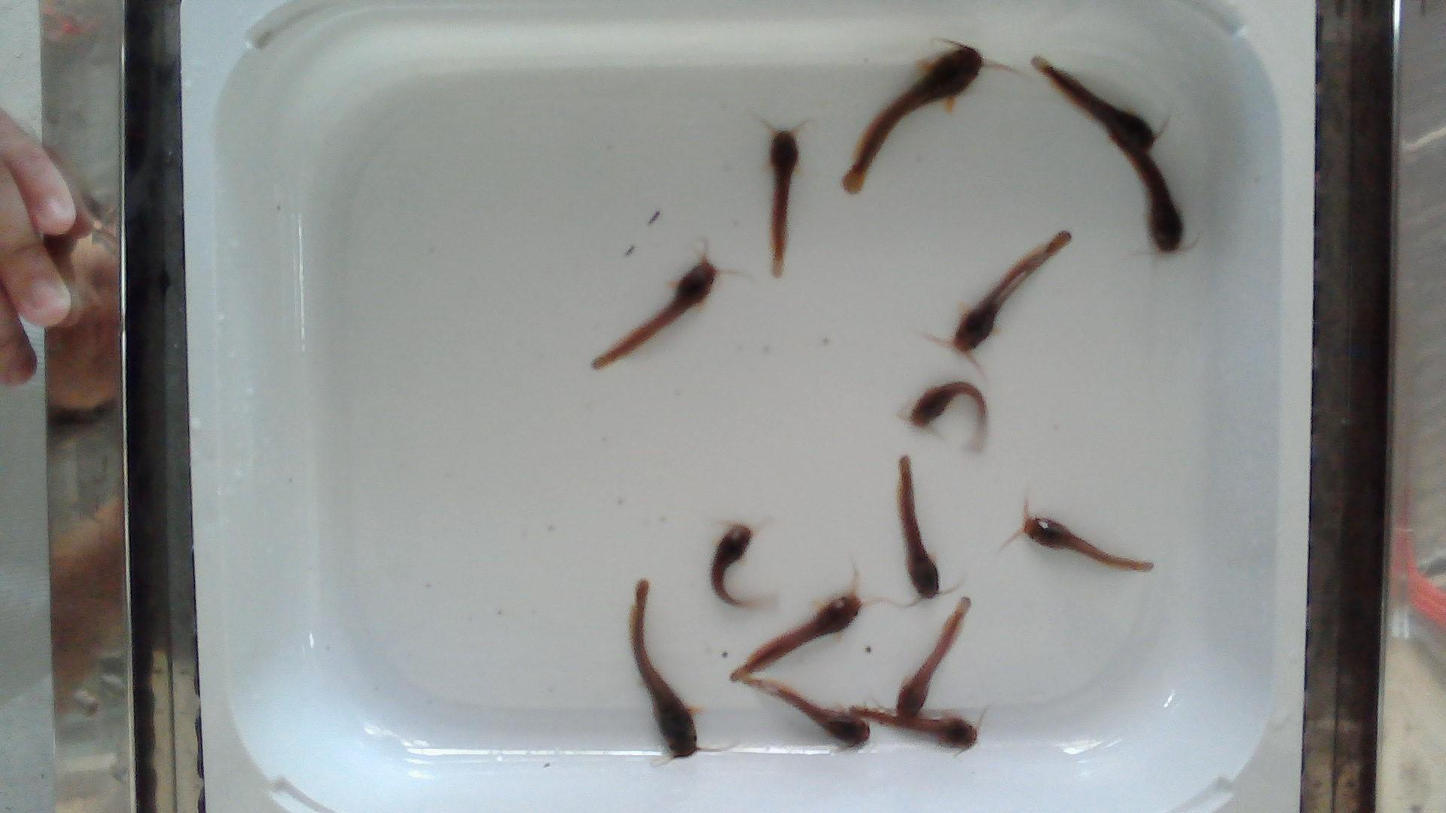lele: (730, 593, 869, 746), (843, 44, 983, 193), (946, 230, 1071, 361), (592, 254, 717, 369), (630, 579, 697, 757), (1034, 54, 1154, 151), (736, 592, 862, 672), (898, 597, 972, 717), (1112, 135, 1182, 256), (1023, 516, 1152, 571), (897, 455, 938, 598), (909, 381, 986, 449), (861, 709, 978, 748), (769, 130, 798, 276), (710, 523, 757, 607)
